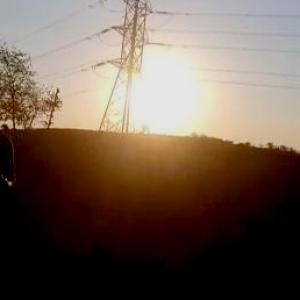follow: (0, 75, 25, 299)
